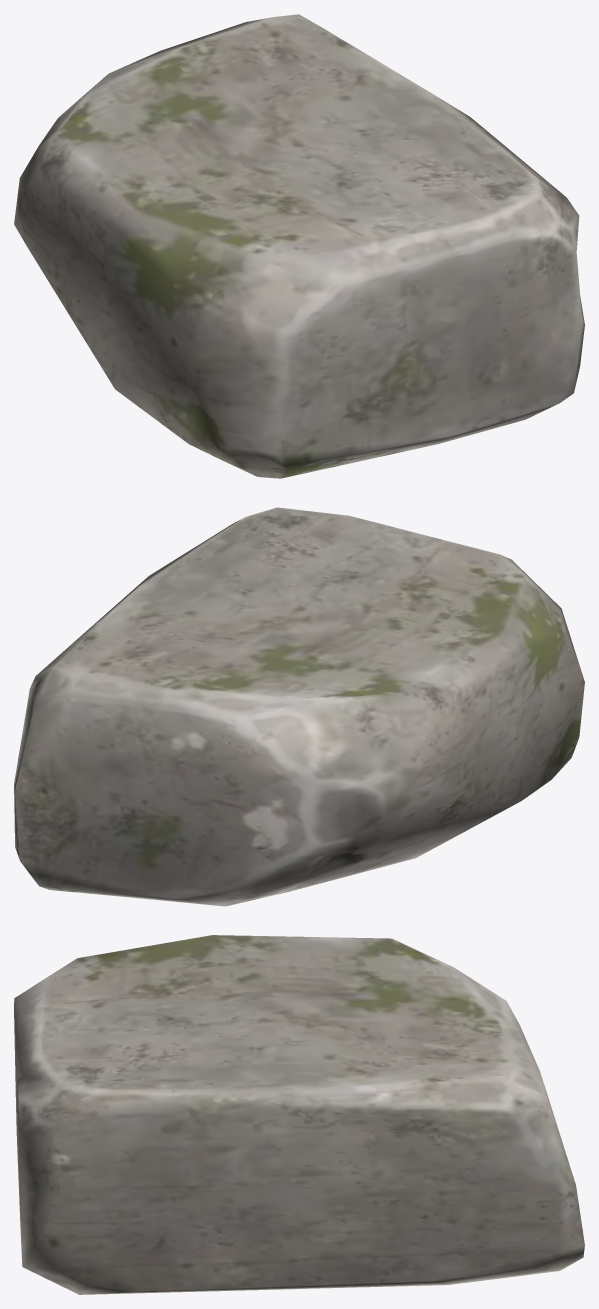
The picture shows the model from 3 angles, top to bottom: view 1: azimuth 30°, elevation 25°; view 2: azimuth 150°, elevation 25°; view 3: azimuth 270°, elevation 25°; orthographic projection. The views are drawn at different scales.
Parts seen in each view (by area): view 1: SM_Castle_Floor_Stone_01_Dmg_v2_LOD0; view 2: SM_Castle_Floor_Stone_01_Dmg_v2_LOD0; view 3: SM_Castle_Floor_Stone_01_Dmg_v2_LOD0.
Boxes of the visible parts, x1,y1,x2,y2 form: SM_Castle_Floor_Stone_01_Dmg_v2_LOD0: [14, 14, 584, 478]; SM_Castle_Floor_Stone_01_Dmg_v2_LOD0: [14, 507, 584, 906]; SM_Castle_Floor_Stone_01_Dmg_v2_LOD0: [14, 935, 584, 1294].
Size of the model in its own units: 0.7517 by 0.4166 by 1.03.
Materials: 1 (1 with a texture image).
